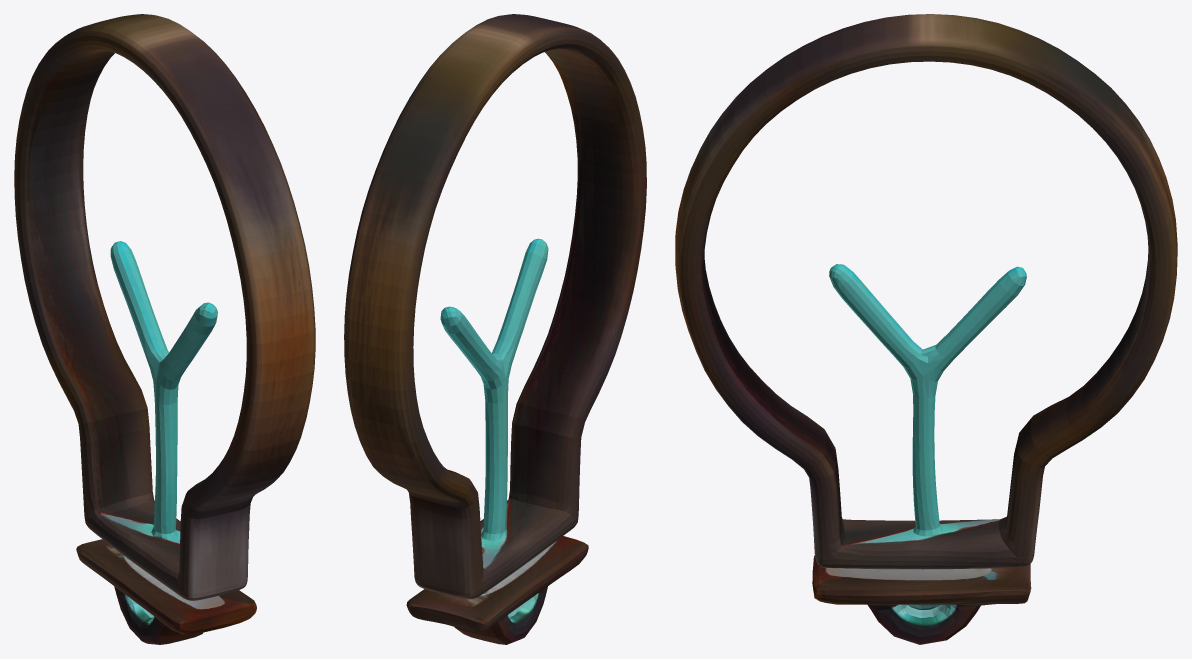
File: lamp.glb
3 views of the same model, side by side, from view 1: azimuth 30°, elevation 25°; view 2: azimuth 150°, elevation 25°; view 3: azimuth 270°, elevation 25° (orthographic).
Visible parts, largest first — view 1: tripo_node_b022b425-82a8-4abc-88b6-7fb5c5e8b4ca; view 2: tripo_node_b022b425-82a8-4abc-88b6-7fb5c5e8b4ca; view 3: tripo_node_b022b425-82a8-4abc-88b6-7fb5c5e8b4ca.
Boxes of the visible parts, left/top/right/bottom form: tripo_node_b022b425-82a8-4abc-88b6-7fb5c5e8b4ca: left=14, top=14, right=315, bottom=644; tripo_node_b022b425-82a8-4abc-88b6-7fb5c5e8b4ca: left=344, top=14, right=646, bottom=644; tripo_node_b022b425-82a8-4abc-88b6-7fb5c5e8b4ca: left=675, top=14, right=1177, bottom=644.
Bounding box in the file's own units: 0.1439 × 0.9995 × 0.7447.
Materials: 1 (1 with a texture image).
